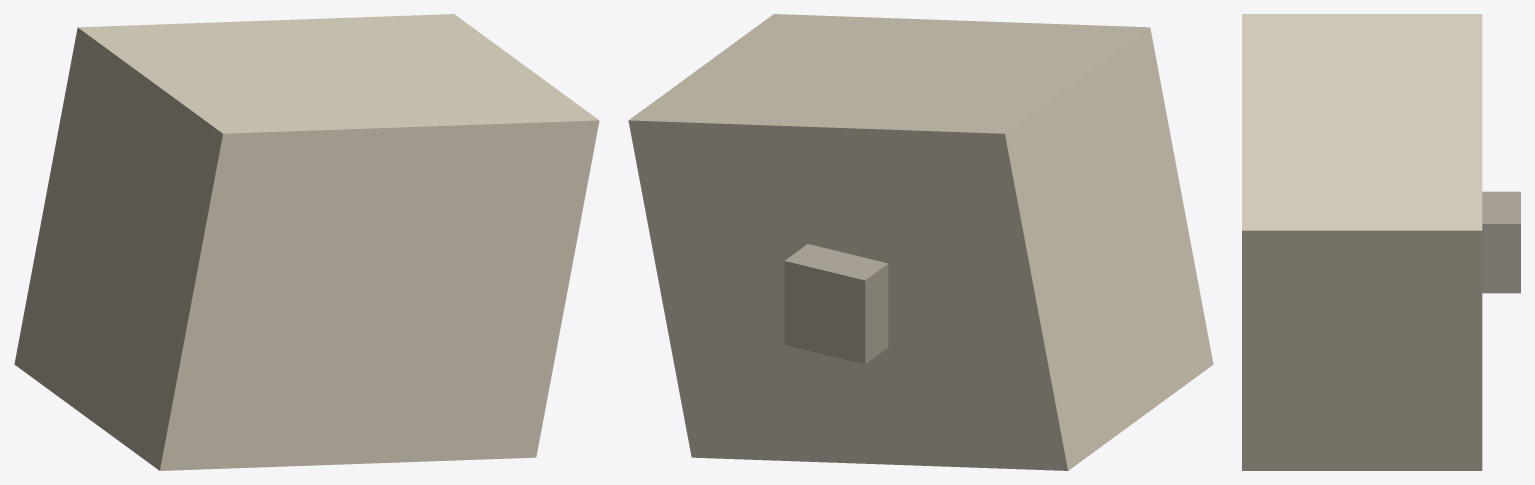
Rendered from historic-palestine-16_33_3577_3272.glb.
3 renders of one model, left to right at view 1: azimuth 30°, elevation 25°; view 2: azimuth 150°, elevation 25°; view 3: azimuth 270°, elevation 25°, orthographic. The views are drawn at different scales.
Parts seen in each view (by area): view 1: Building_; view 2: Building_, Roof access hut; view 3: Building_, Roof access hut.
Boxes of the visible parts, x1,y1,x2,y2 form: Building_: [14, 14, 599, 470]; Building_: [628, 14, 1213, 470]; Roof access hut: [784, 244, 888, 364]; Building_: [1242, 14, 1482, 470]; Roof access hut: [1482, 191, 1520, 293].
Bounding box in the file's own units: 13.09 × 11.39 × 8.7.
